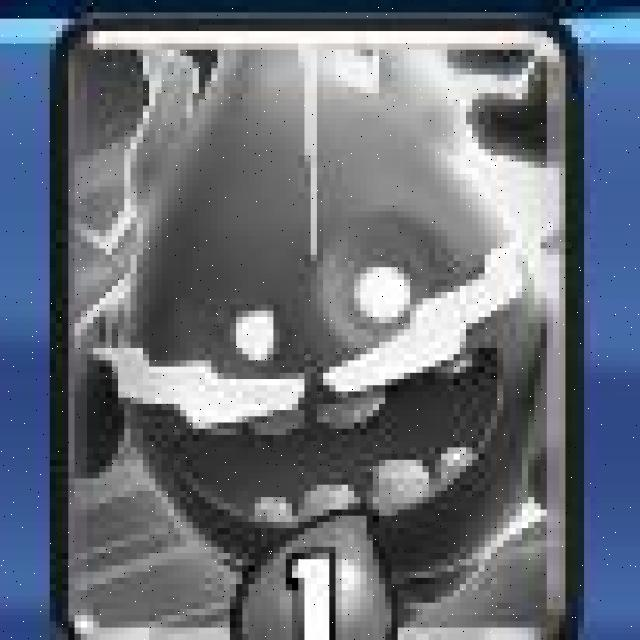Electro_Spirit: (52, 15, 576, 640)
